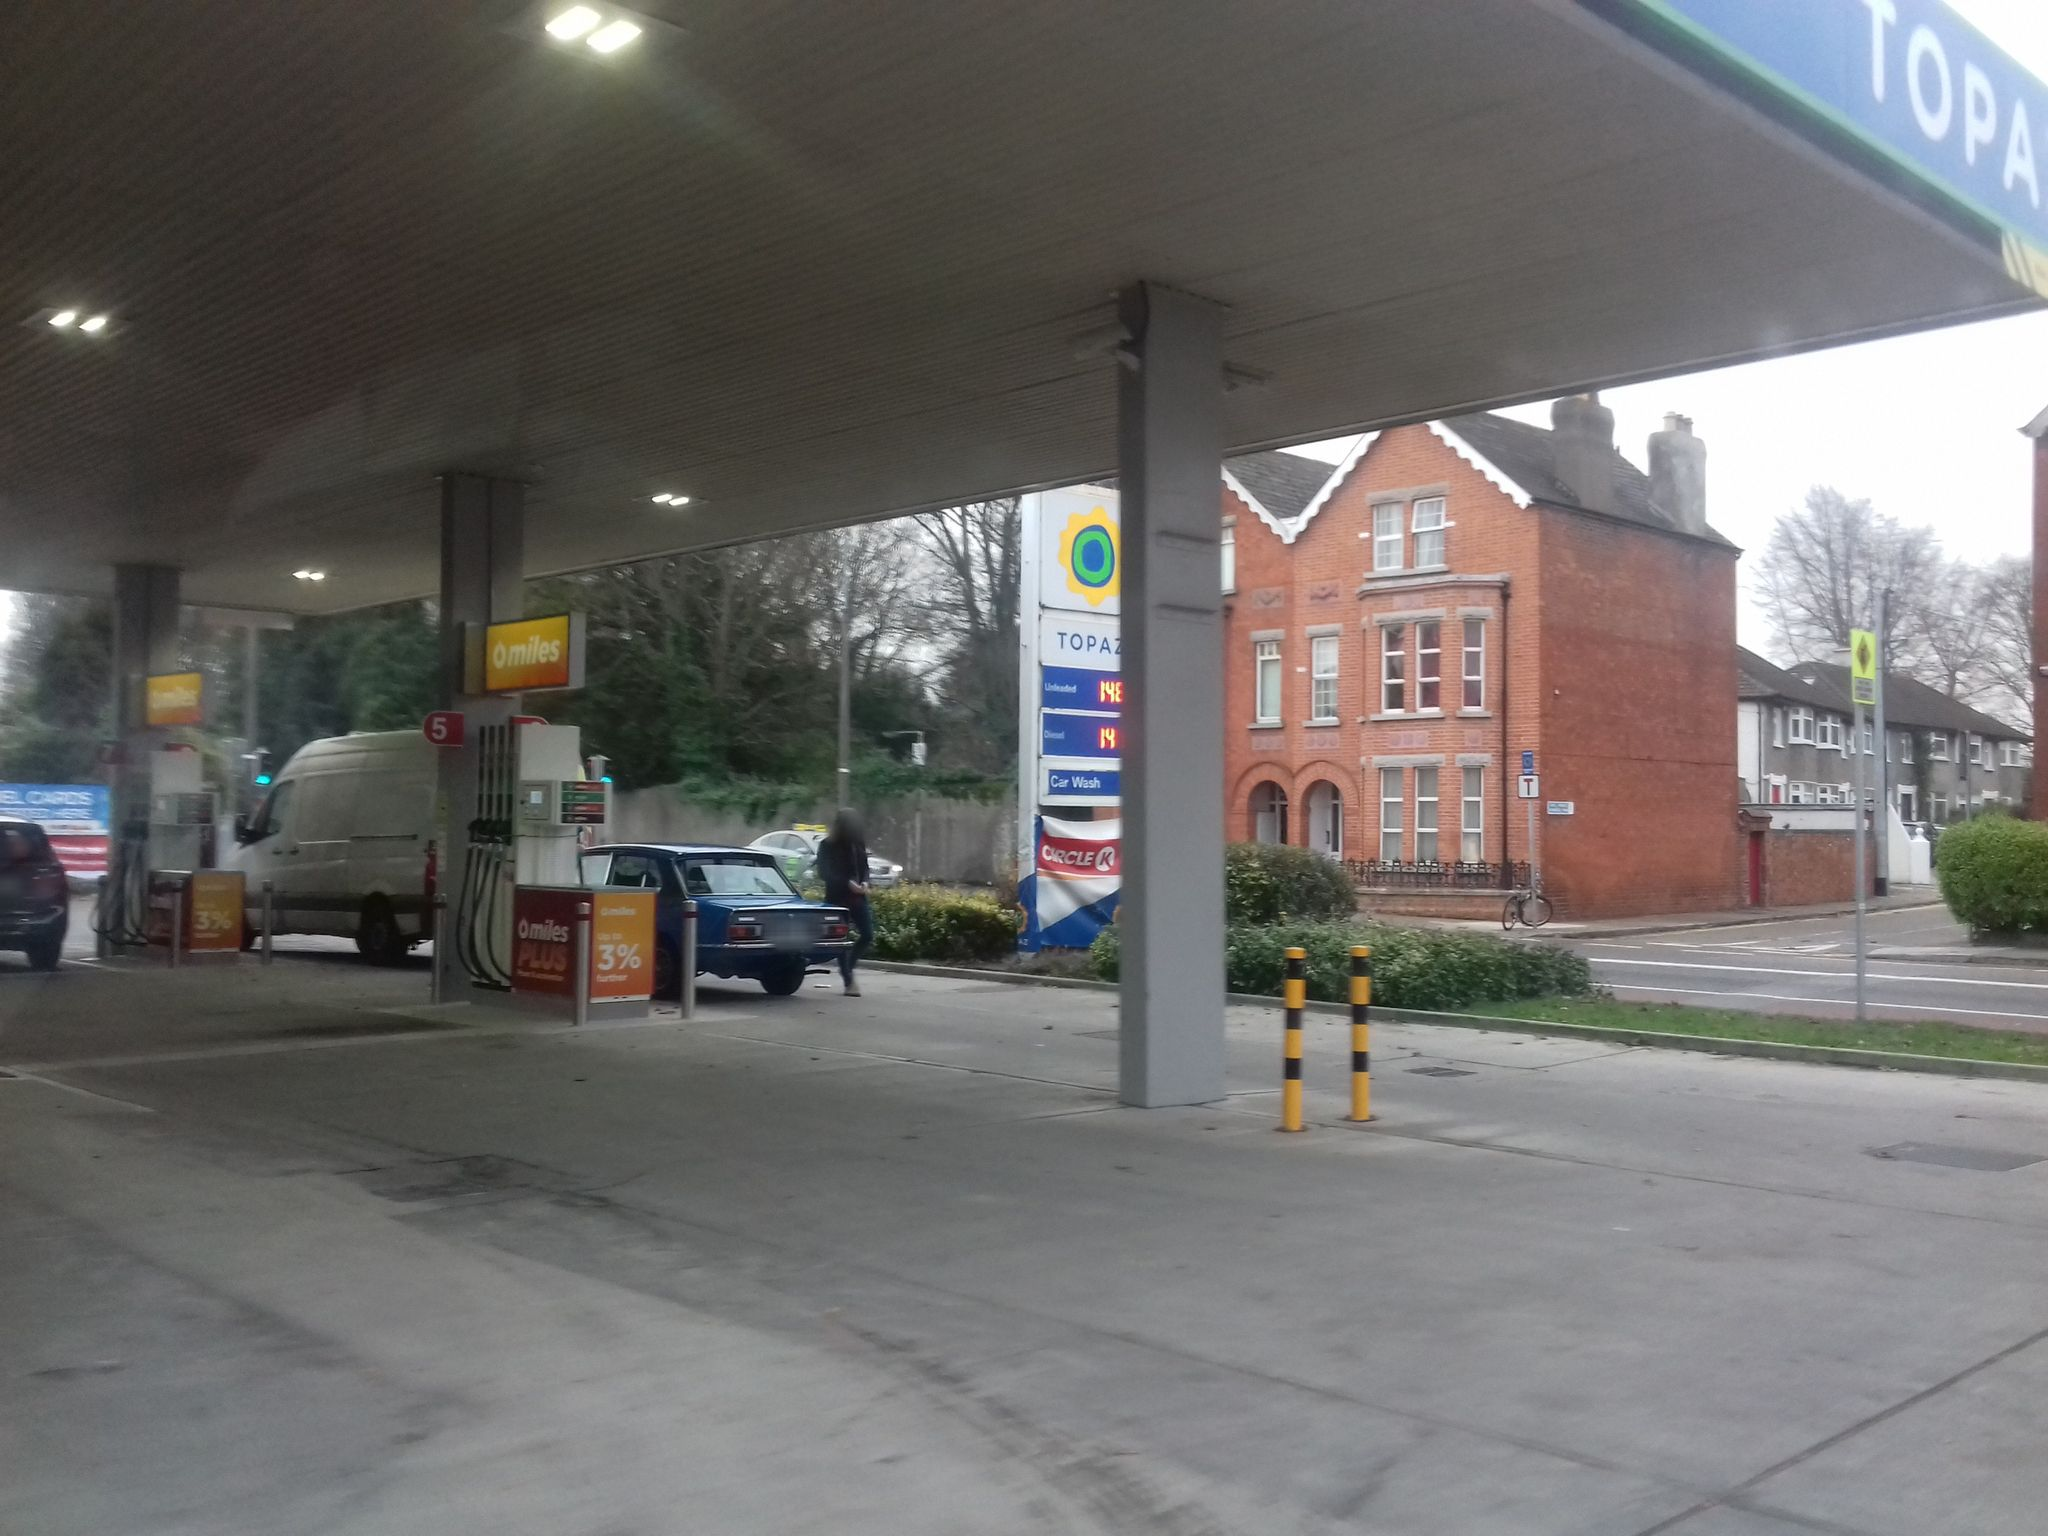vinyl banner: (1018, 812, 1138, 945)
